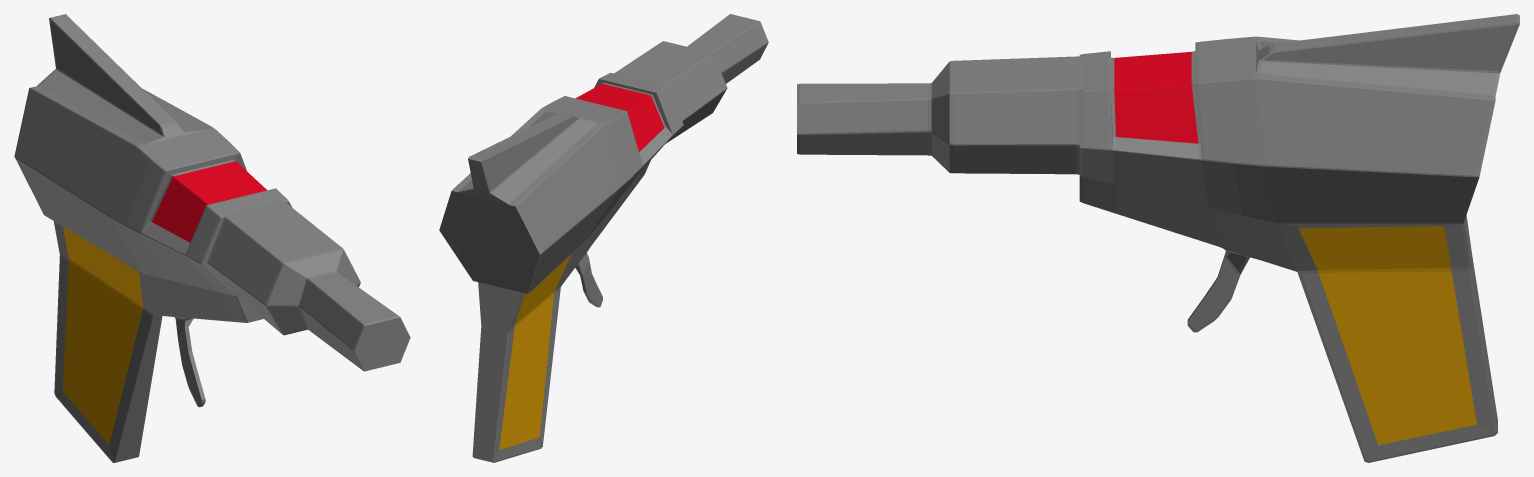
File: space_gun.gltf
3 renders of one model, left to right at view 1: azimuth 30°, elevation 25°; view 2: azimuth 150°, elevation 25°; view 3: azimuth 270°, elevation 25°, orthographic. The views are drawn at different scales.
Parts seen in each view (by area): view 1: SpaceGun; view 2: SpaceGun; view 3: SpaceGun.
Boxes of the visible parts, x1,y1,x2,y2 form: SpaceGun: (14,14,410,462); SpaceGun: (439,14,768,462); SpaceGun: (797,14,1519,462).
Size of the model in its own units: 0.0501 by 0.1561 by 0.2335.
